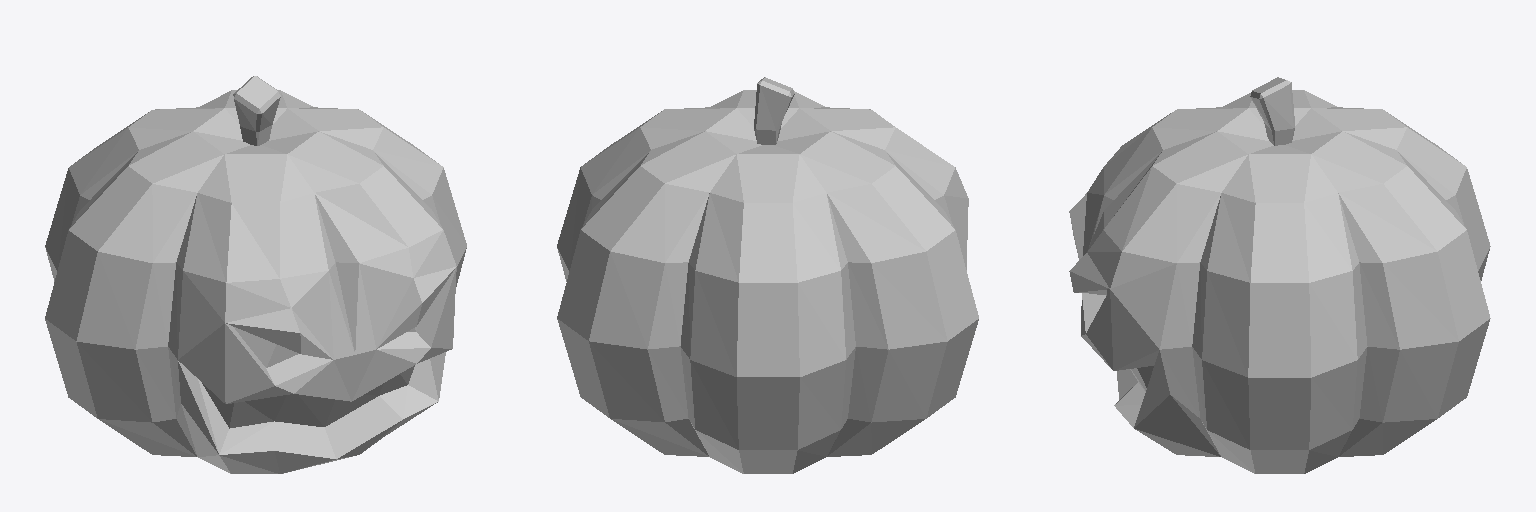
File: pumpkin_yellow_jackolantern.obj
3 renders of one model, left to right at view 1: azimuth 30°, elevation 25°; view 2: azimuth 150°, elevation 25°; view 3: azimuth 270°, elevation 25°, orthographic.
Visible parts, largest first — view 1: pumpkin_yellow_jackolantern_Sphere.018; view 2: pumpkin_yellow_jackolantern_Sphere.018; view 3: pumpkin_yellow_jackolantern_Sphere.018.
Boxes of the visible parts, x1,y1,x2,y2 form: pumpkin_yellow_jackolantern_Sphere.018: [45, 76, 466, 473]; pumpkin_yellow_jackolantern_Sphere.018: [557, 77, 978, 473]; pumpkin_yellow_jackolantern_Sphere.018: [1069, 77, 1490, 473].
Size of the model in its own units: 1.5 by 1.3 by 1.4.